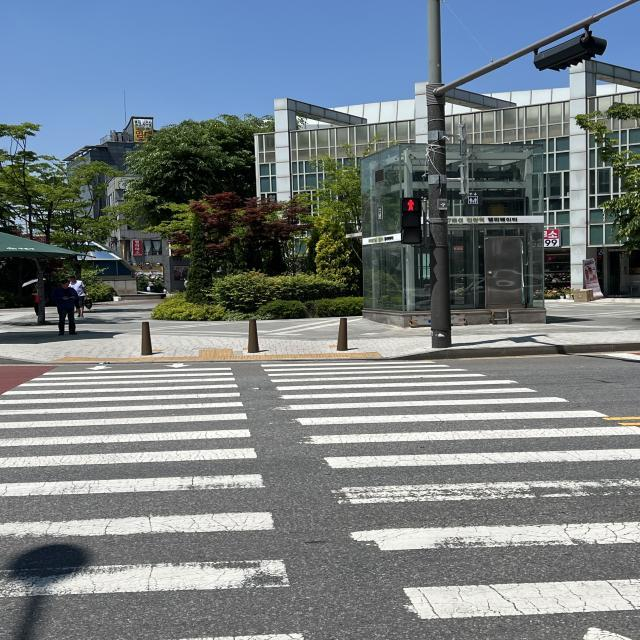crosswalk: (1, 347, 640, 640)
red-light: (398, 198, 427, 246)
